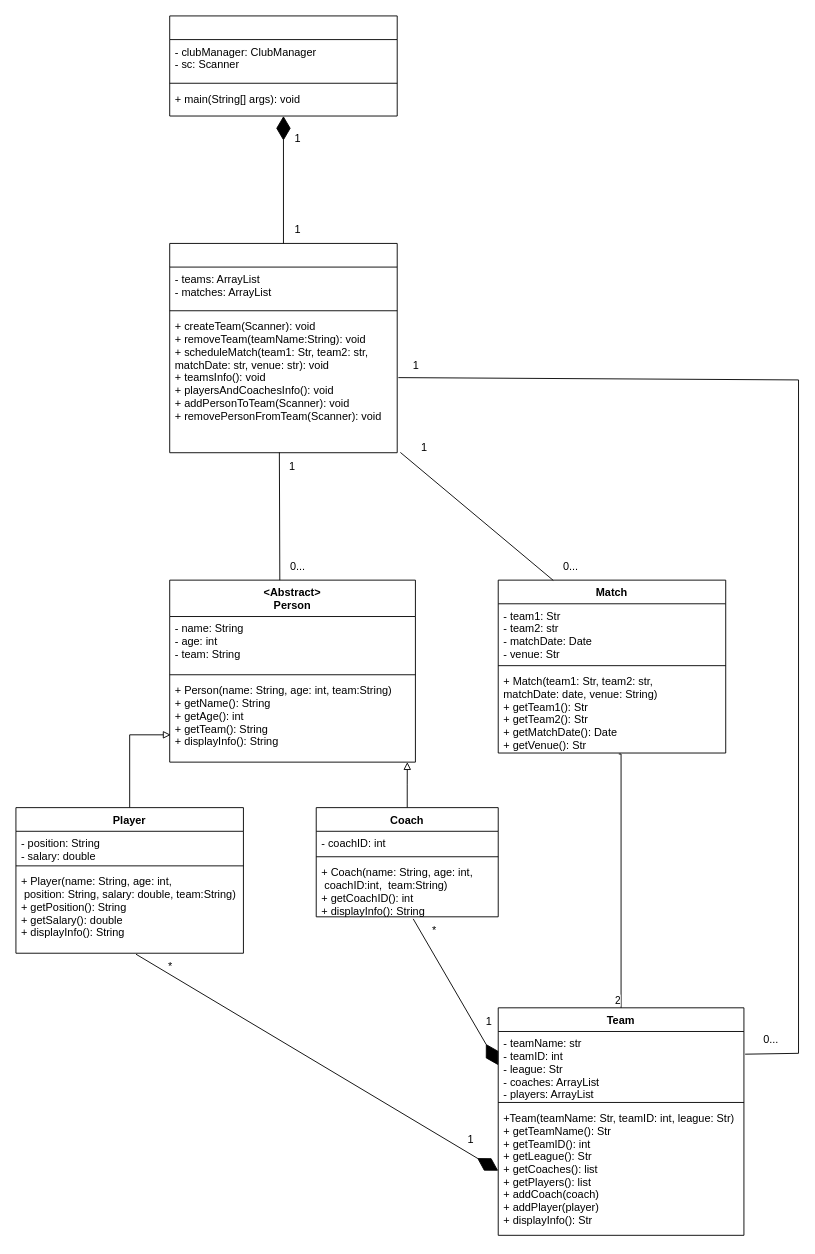
Some shapes in this 815 by 1254 pixel diagram are drawn without their labels. Here are the shapes that lost their labels. From the top down, the box of each, then its label:
(169, 15, 397, 116): ClubManagementApp
(169, 243, 397, 453): ClubManager
